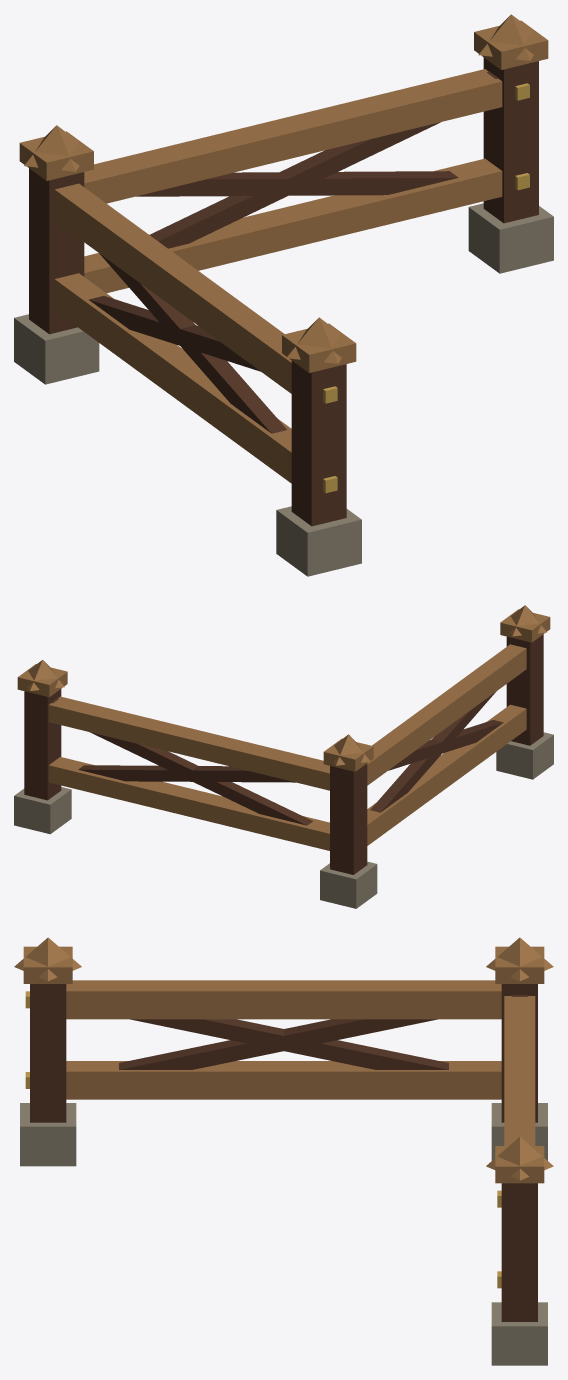
File: fence-corner.glb
3 renders of one model, top to bottom at view 1: azimuth 30°, elevation 25°; view 2: azimuth 150°, elevation 25°; view 3: azimuth 270°, elevation 25°, orthographic. The views are drawn at different scales.
Parts seen in each view (by area): view 1: fence-corner; view 2: fence-corner; view 3: fence-corner.
Part boxes in pixels (x1,y1,x2,y2): fence-corner: (14, 14, 553, 576); fence-corner: (14, 605, 553, 908); fence-corner: (14, 937, 553, 1365).
Size of the model in its own units: 2.98 by 1.32 by 2.98.
